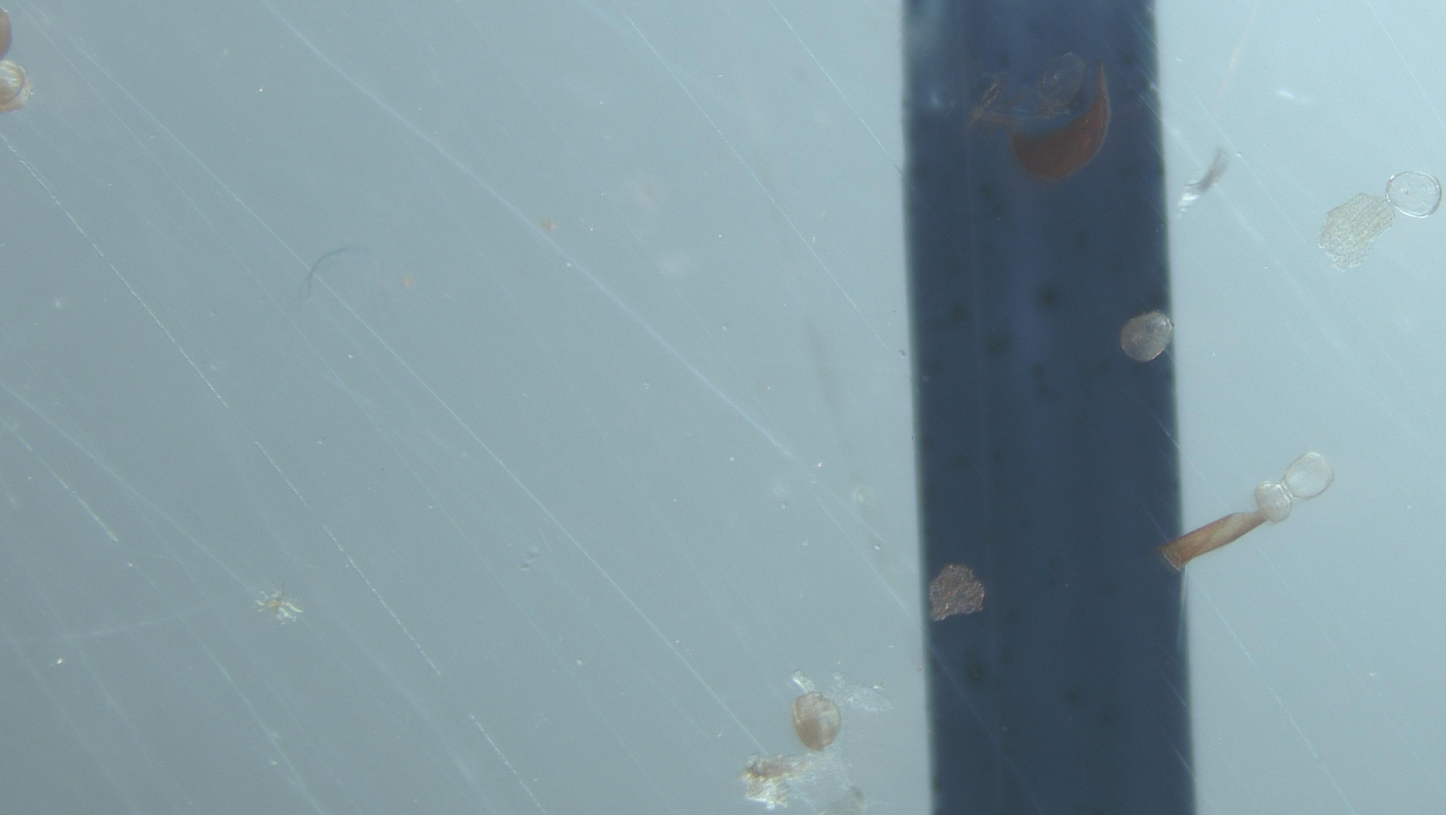dead: (1387, 171, 1441, 218)
live: (792, 693, 842, 751), (1120, 311, 1174, 362)
